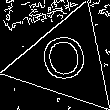O_S: (39, 32, 93, 90)
